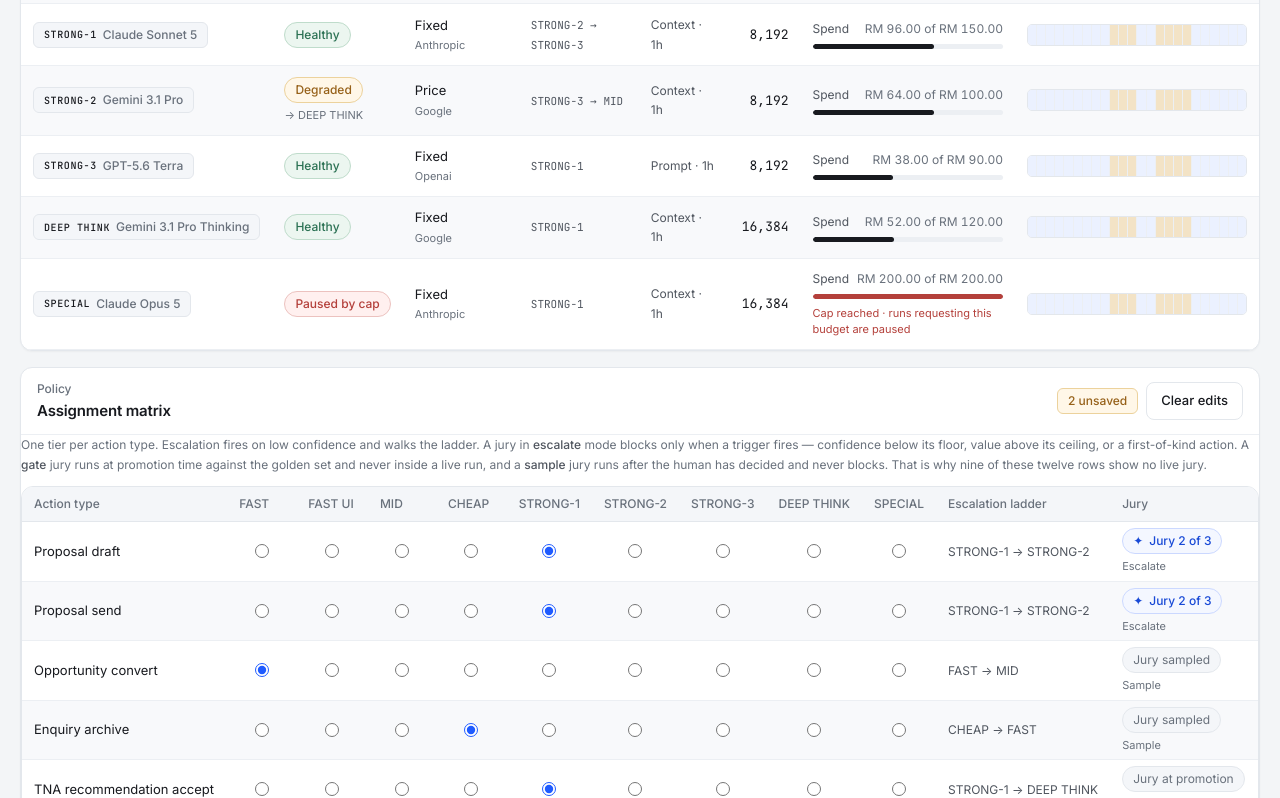
Test case: M20-S20 · AI models, tiers and routing › clears staged edits without applying them
(page scrolled)
What coordinates should you click on to do the following:
click the button "Clear edits"
I would click on:
 (1195, 401)
Its box is x1=1146 y1=382 x2=1243 y2=420.
(page scrolled)
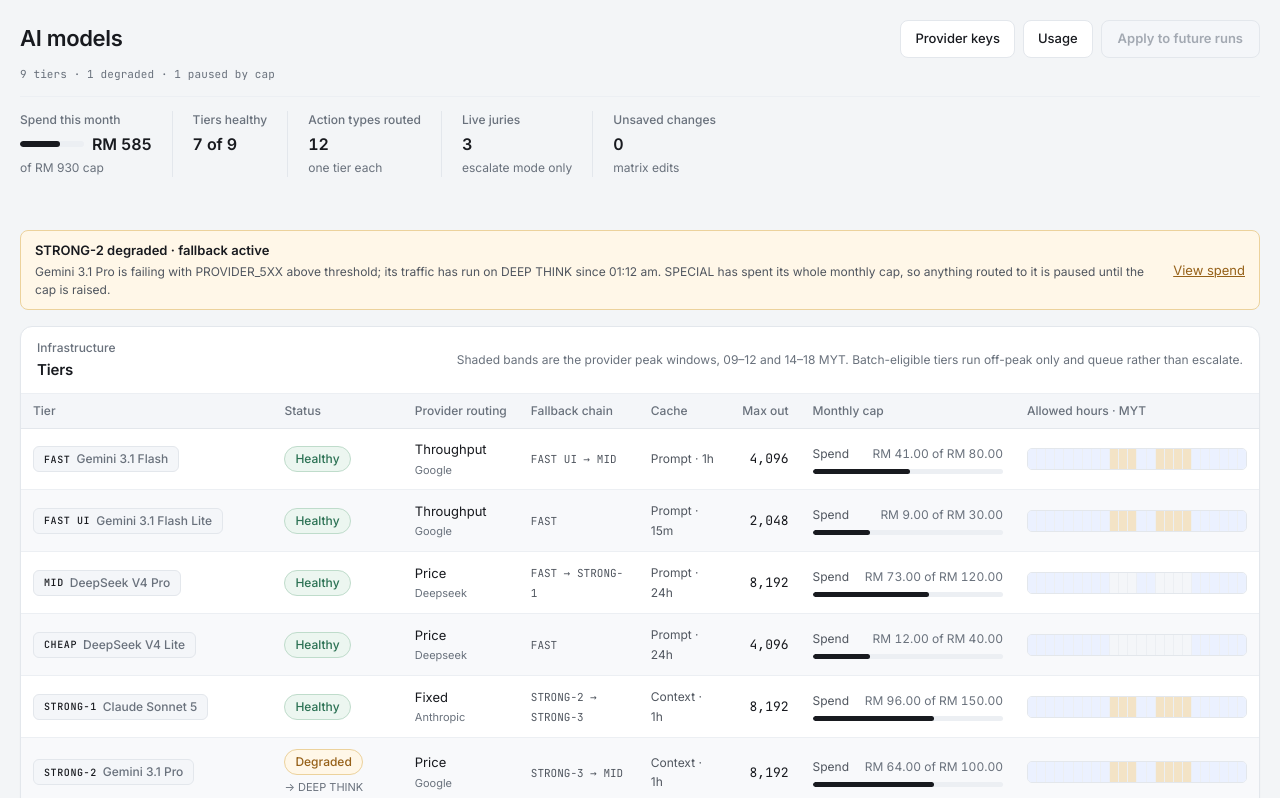
Now the text "2 unsaved" is gone
Now the button "Apply to future runs" is disabled, box x1=1101 y1=20 x2=1260 y2=58
